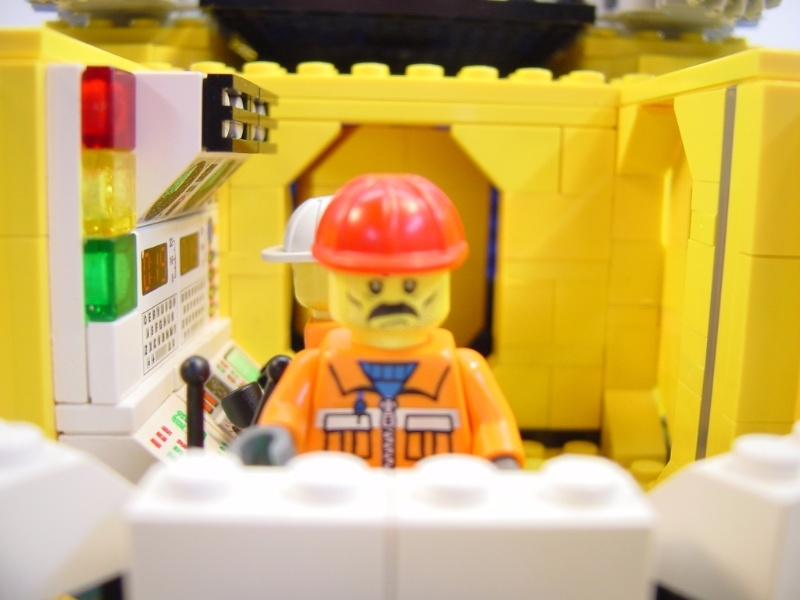helmet: (312, 169, 469, 275)
jacket: (276, 325, 520, 475)
